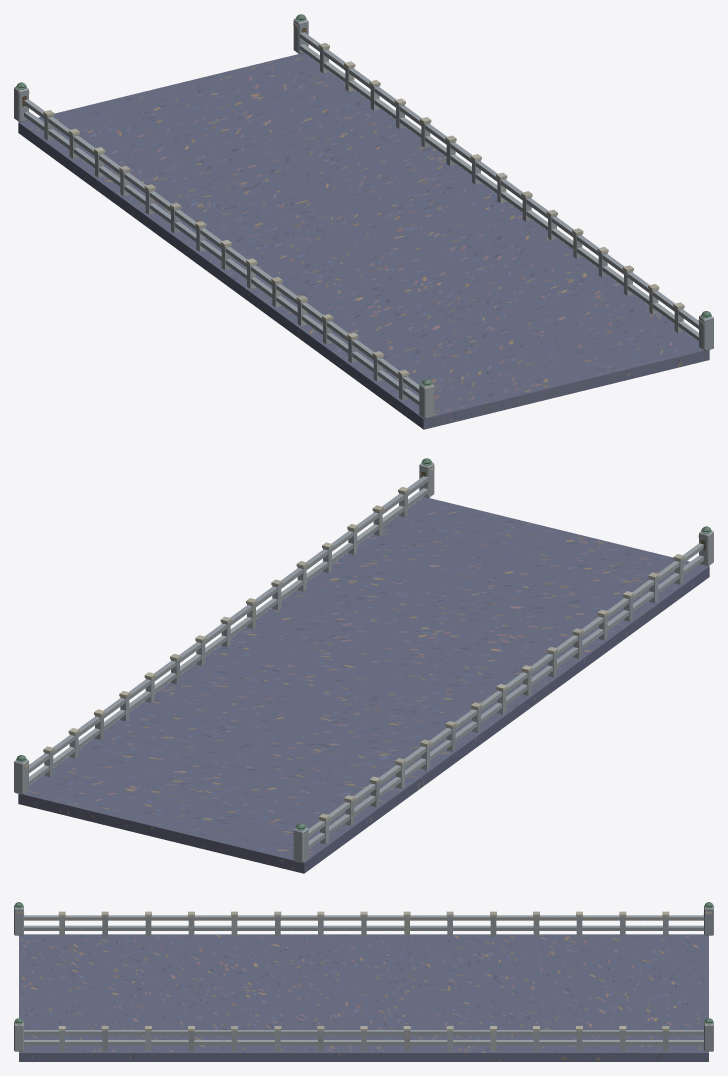
The model's file is ART_KyobashiBridge.glb.
The picture shows the model from 3 angles, top to bottom: view 1: azimuth 30°, elevation 25°; view 2: azimuth 150°, elevation 25°; view 3: azimuth 270°, elevation 25°; orthographic projection. The views are drawn at different scales.
Visible parts, largest first — view 1: ART_KyobashiBridge; view 2: ART_KyobashiBridge; view 3: ART_KyobashiBridge.
Boxes of the visible parts, x1,y1,x2,y2 form: ART_KyobashiBridge: (14,14,713,429); ART_KyobashiBridge: (14,458,713,873); ART_KyobashiBridge: (14,902,713,1061).
Size of the model in its own units: 14.2 by 2.32 by 34.9.
